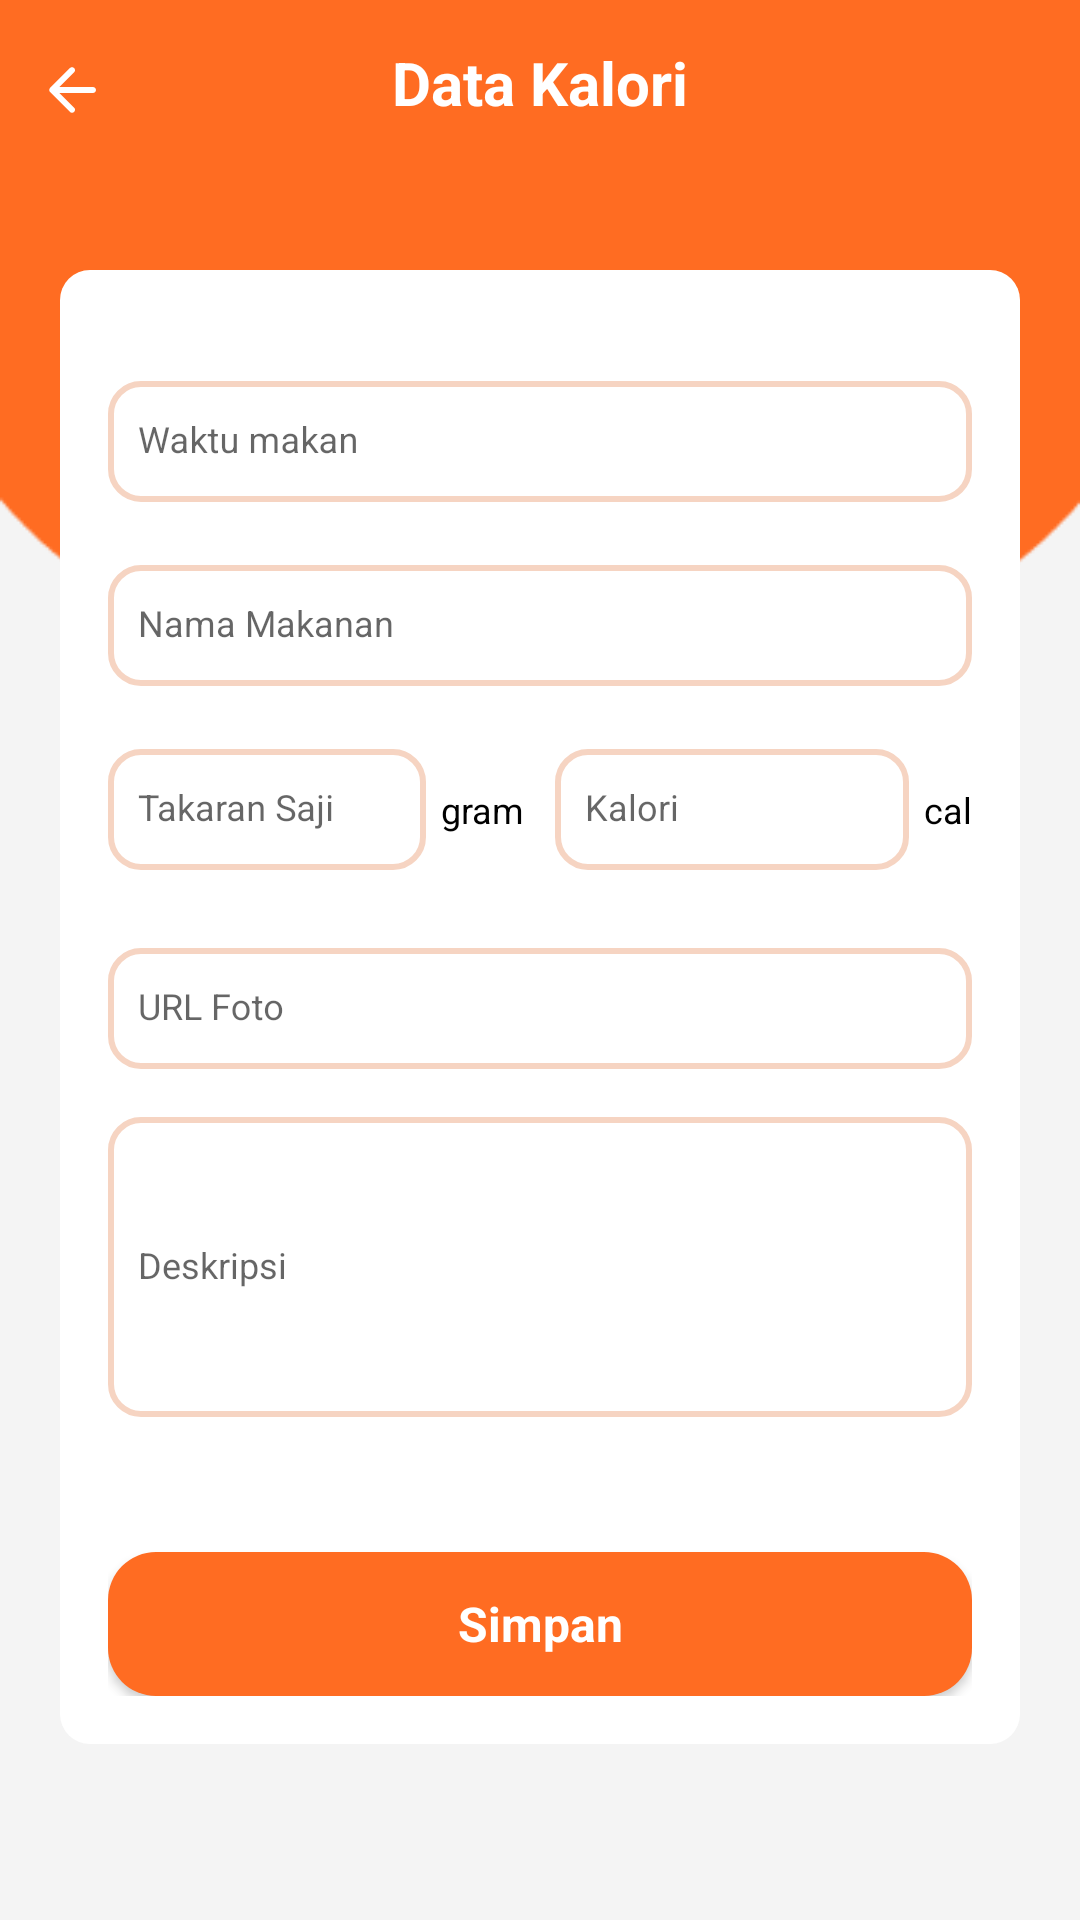

Point at icon controls on the screen. Image size 1080×1920, points as point (x, y).
back: point (72, 90)
